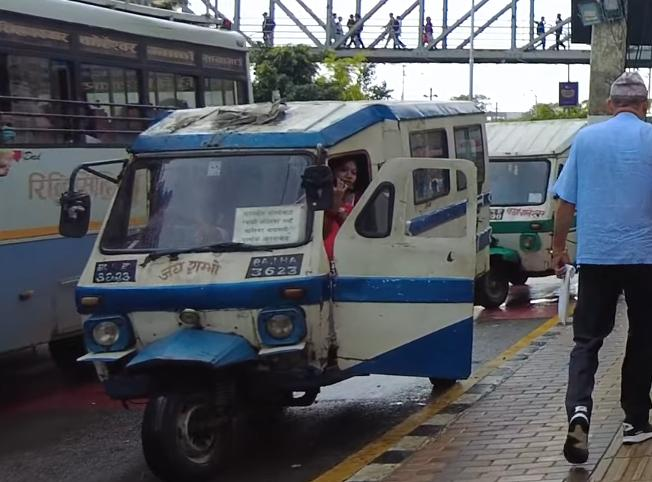tempo: (49, 90, 485, 482), (472, 113, 597, 314)
